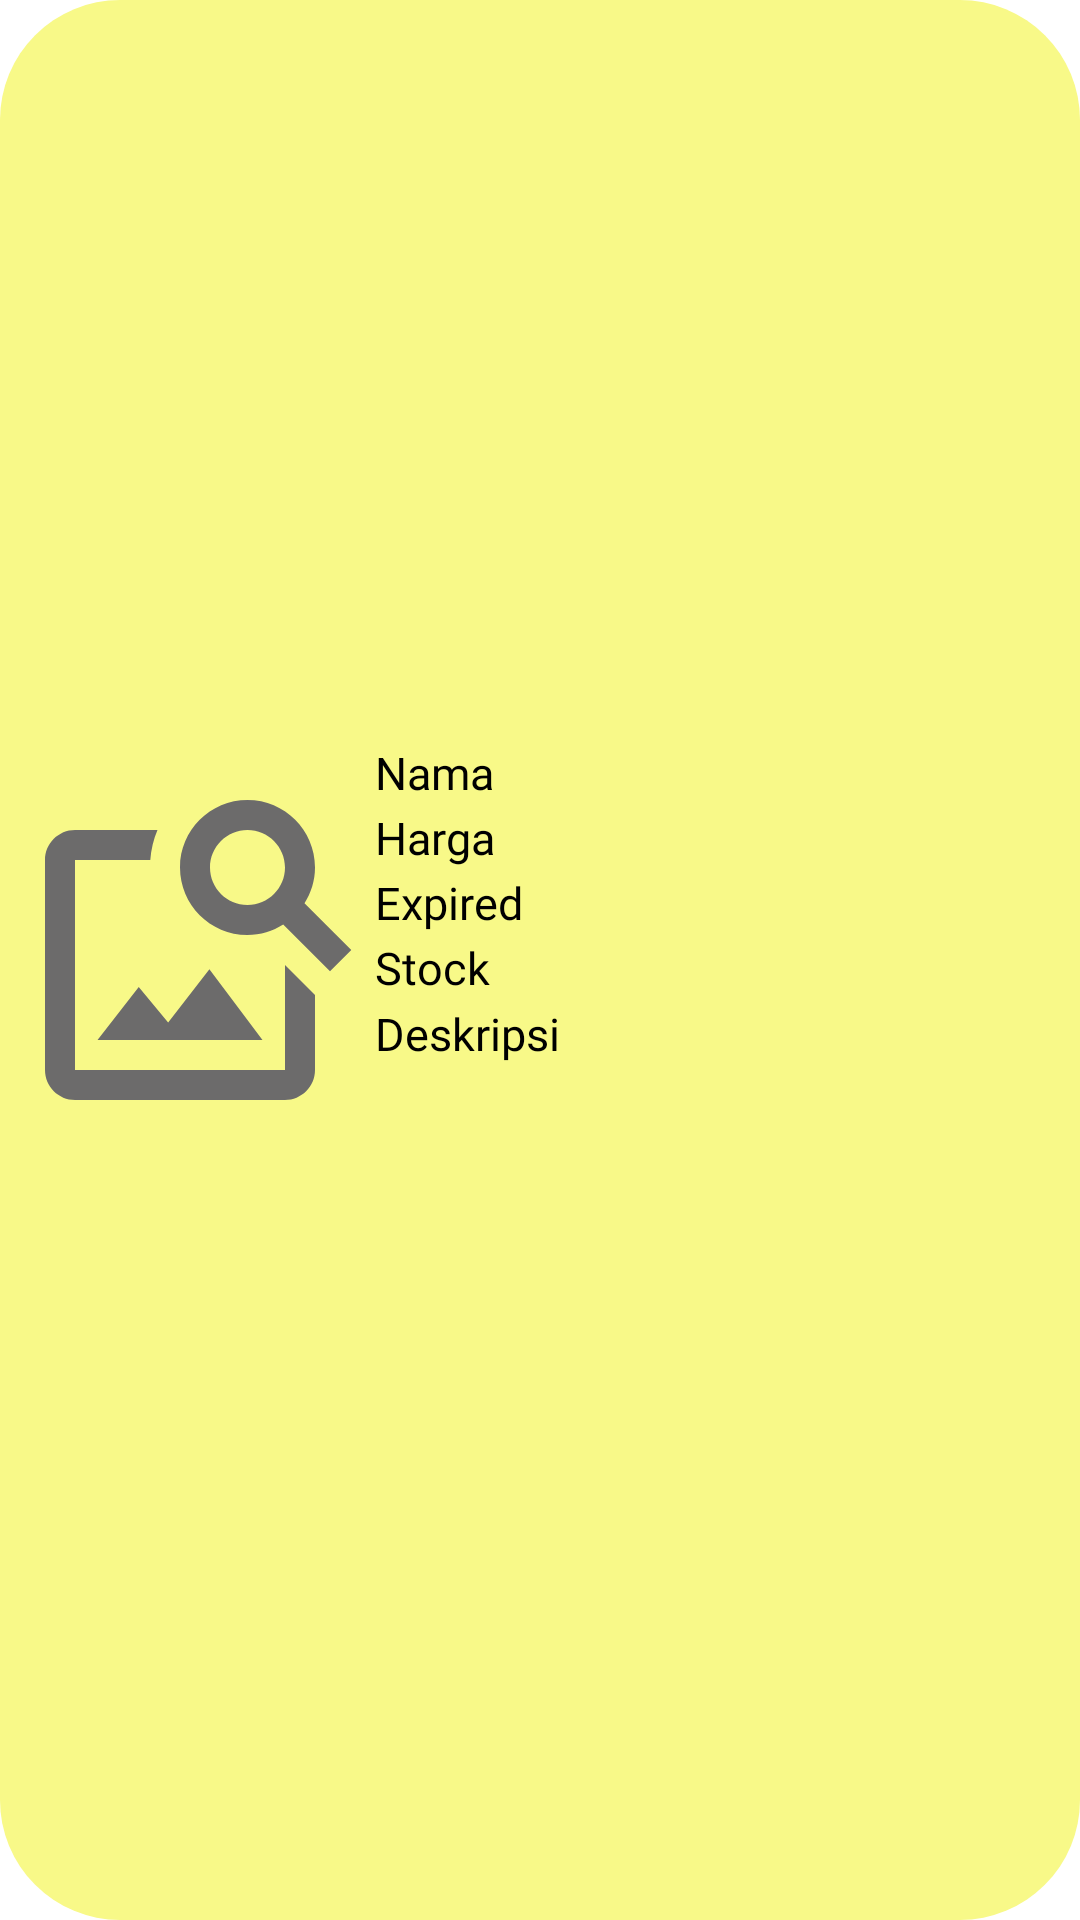

Where icons sit on this 1080 × 1920 app screen, as (x1, y1, x2, y2):
search: (45, 800, 351, 1100)
